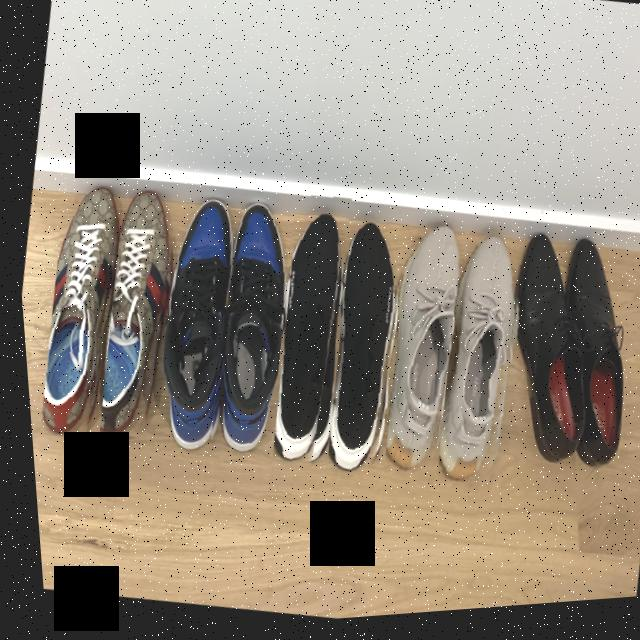shoe: (245, 192, 365, 492), (180, 195, 306, 465), (414, 230, 538, 497), (302, 215, 420, 495), (361, 218, 478, 489), (18, 178, 133, 444), (134, 192, 246, 462), (78, 182, 192, 443)
